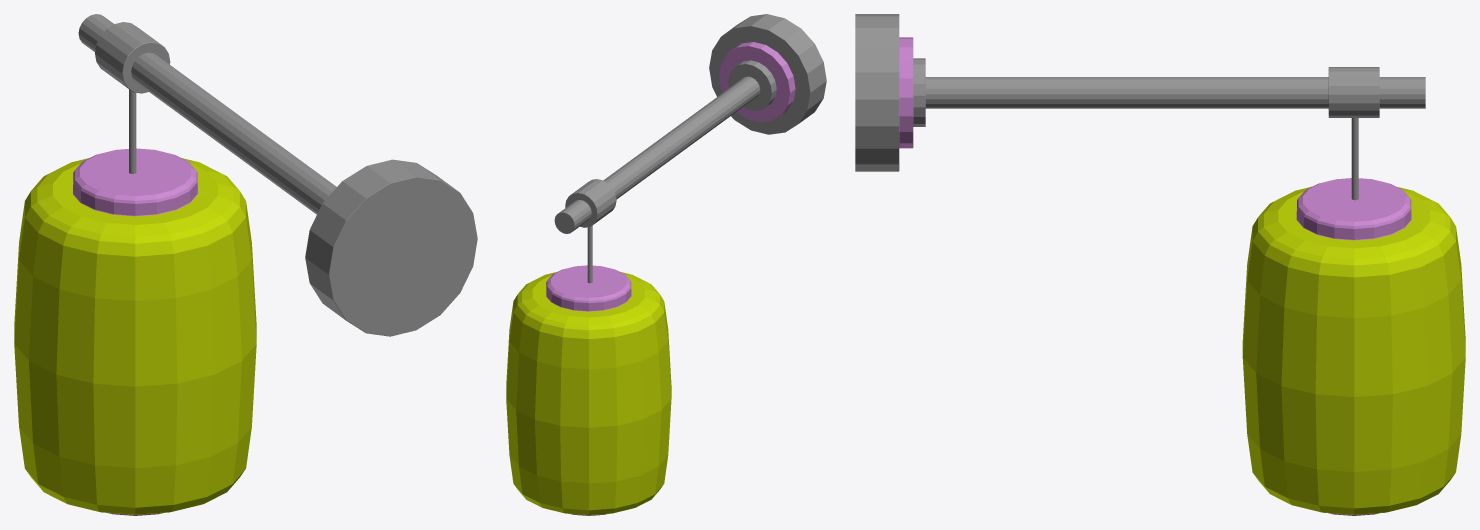
The model's file is SM_Signboard_02.fbx.
3 renders of one model, left to right at view 1: azimuth 30°, elevation 25°; view 2: azimuth 150°, elevation 25°; view 3: azimuth 270°, elevation 25°, orthographic. The views are drawn at different scales.
Visible parts, largest first — view 1: SM_Signboard_02; view 2: SM_Signboard_02; view 3: SM_Signboard_02.
Boxes of the visible parts, x1=… form: SM_Signboard_02: x1=14, y1=14, x2=477, y2=515; SM_Signboard_02: x1=506, y1=14, x2=826, y2=515; SM_Signboard_02: x1=855, y1=14, x2=1465, y2=515.
Size of the model in its own units: 47.62 by 128 by 109.
1 material, 1 textured.
